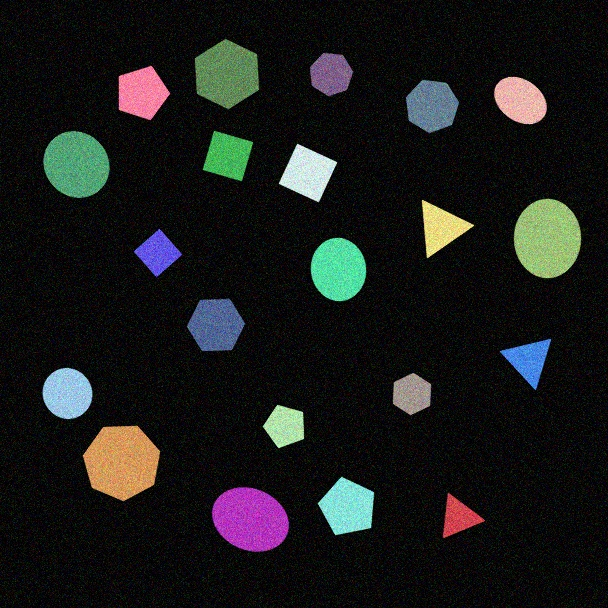Circulo: (43, 130, 110, 199), (310, 237, 367, 302), (42, 367, 93, 420)
Elipse: (513, 198, 582, 279), (211, 486, 290, 553), (493, 76, 548, 125)
Heptagono: (82, 425, 161, 502), (405, 79, 460, 134), (309, 52, 354, 97)
Hexagono: (194, 38, 260, 110), (186, 298, 246, 352), (392, 372, 432, 416)
Pentagono: (317, 476, 375, 536), (118, 65, 171, 121), (262, 404, 305, 449)
Quadrado: (278, 143, 338, 203), (202, 130, 254, 182), (133, 228, 183, 278)
Triangulo: (421, 199, 475, 259), (499, 338, 552, 391), (442, 492, 486, 539)
